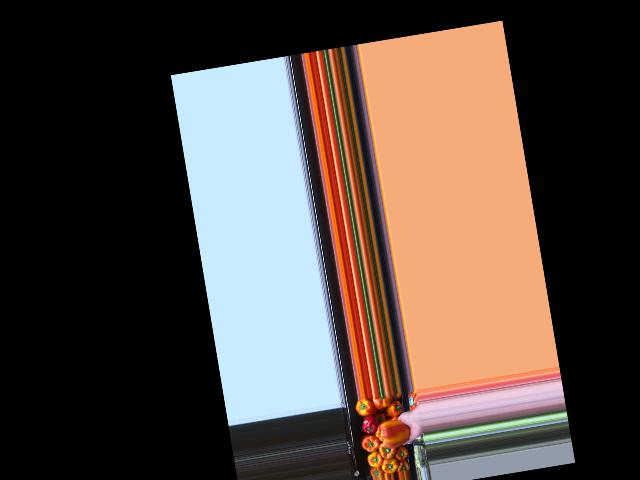bell_pepper: (385, 398, 402, 419)
